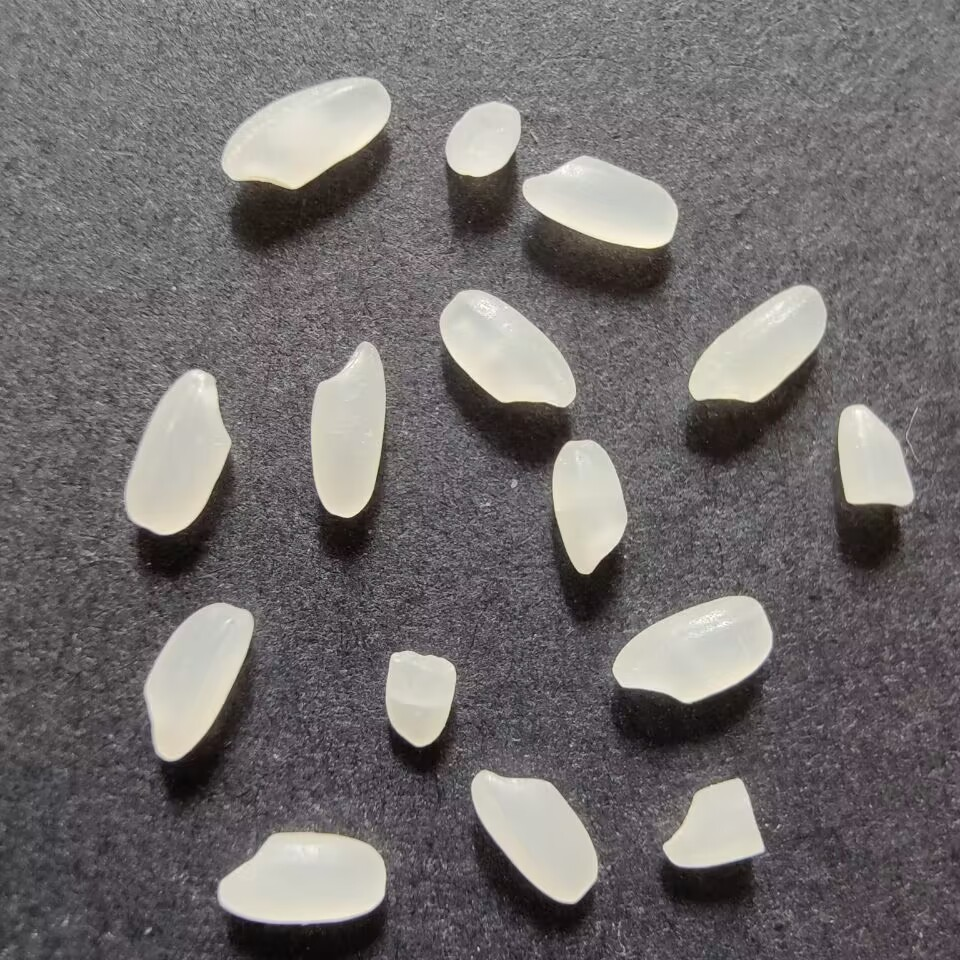broken: (654, 771, 769, 876), (830, 401, 919, 517), (378, 649, 463, 754), (436, 94, 528, 186)
rice: (209, 72, 393, 191), (120, 358, 238, 543), (467, 762, 606, 917), (139, 597, 257, 766), (434, 282, 579, 415), (605, 592, 776, 704), (211, 822, 391, 928), (682, 282, 831, 409), (515, 148, 683, 254), (305, 333, 396, 523), (549, 435, 634, 579)
